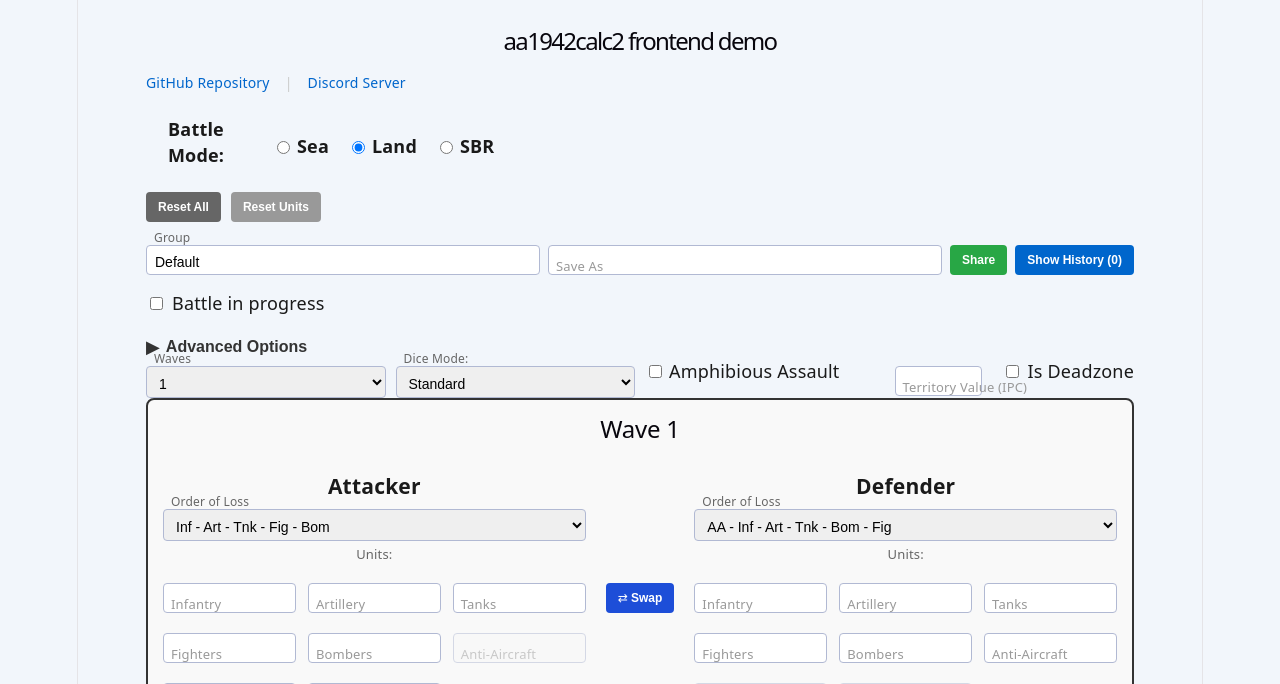
Test case: Input collapse on Evaluate Battle › collapses the input to a summary after Evaluate and expands again when clicked
The width and height of the screenshot is (1280, 684).
Click the radio button labelled "SBR" at x=446, y=148, box [440, 141, 453, 154]
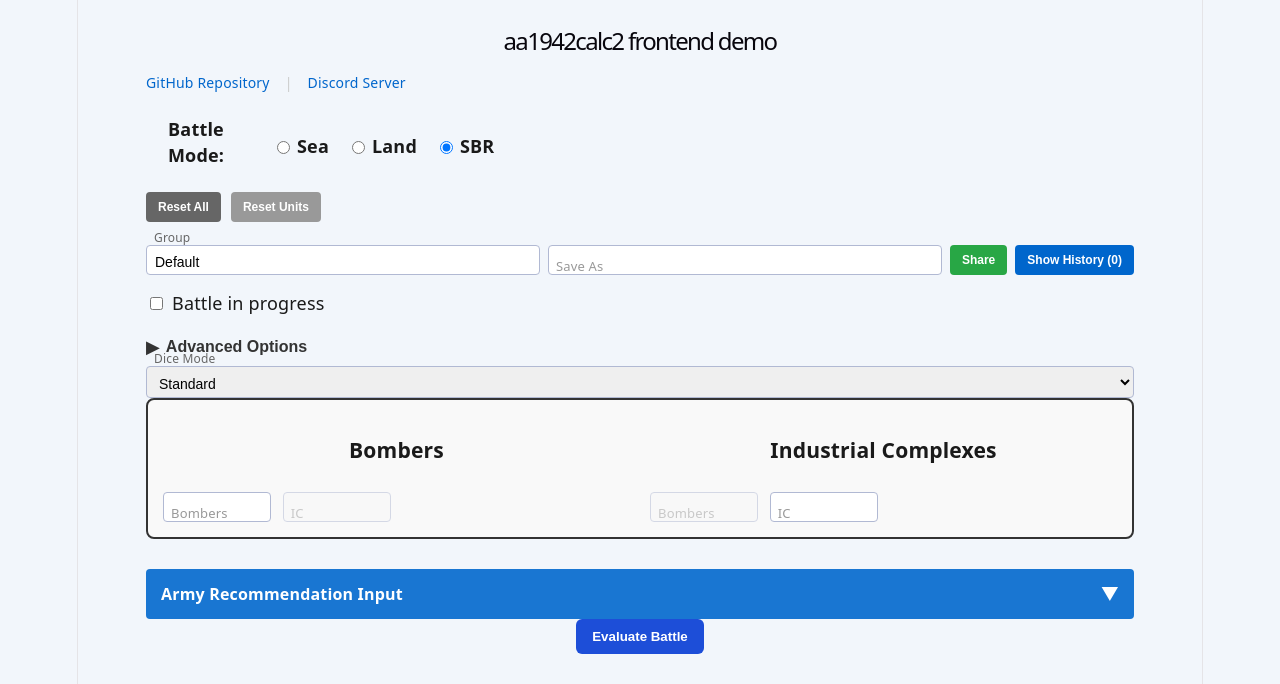
Now the element showing "Bombers Bombers IC Industrial Complexes Bombers IC" is shown, box [146, 398, 1134, 539]
Type "5" into the 1st number field at x=217, y=507, box [163, 492, 271, 522]
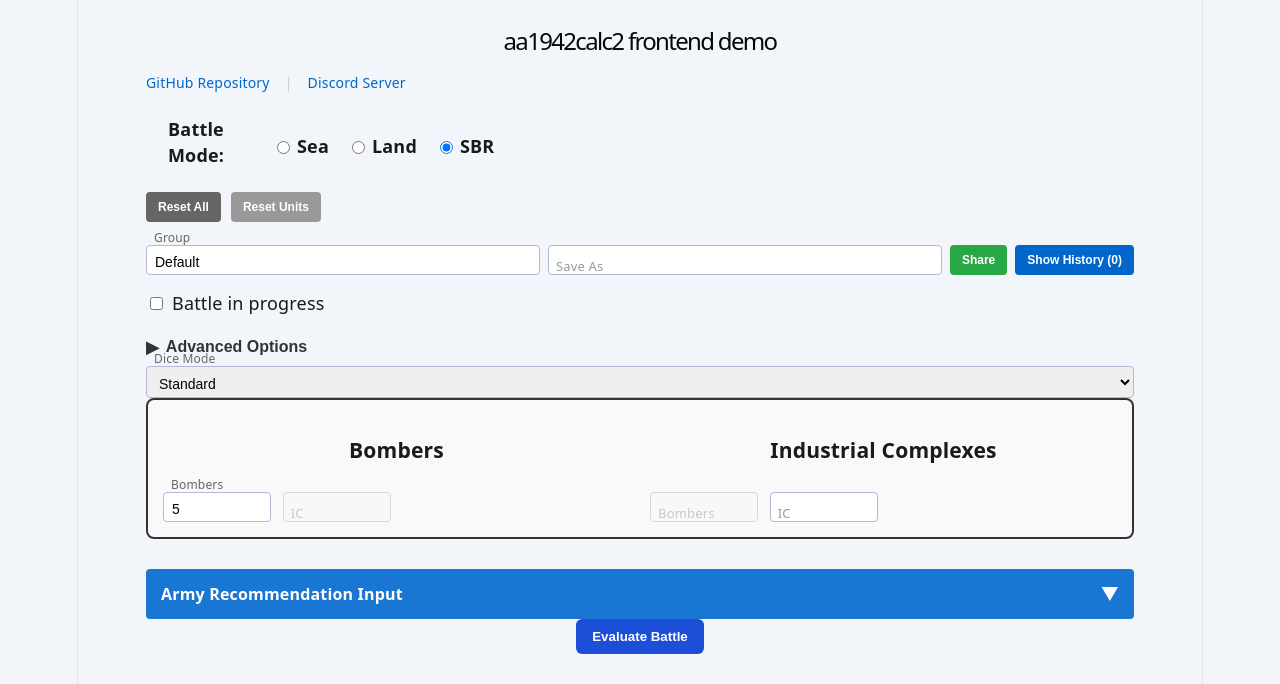
Type "1" into the 4th number field at x=824, y=507, box [770, 492, 878, 522]
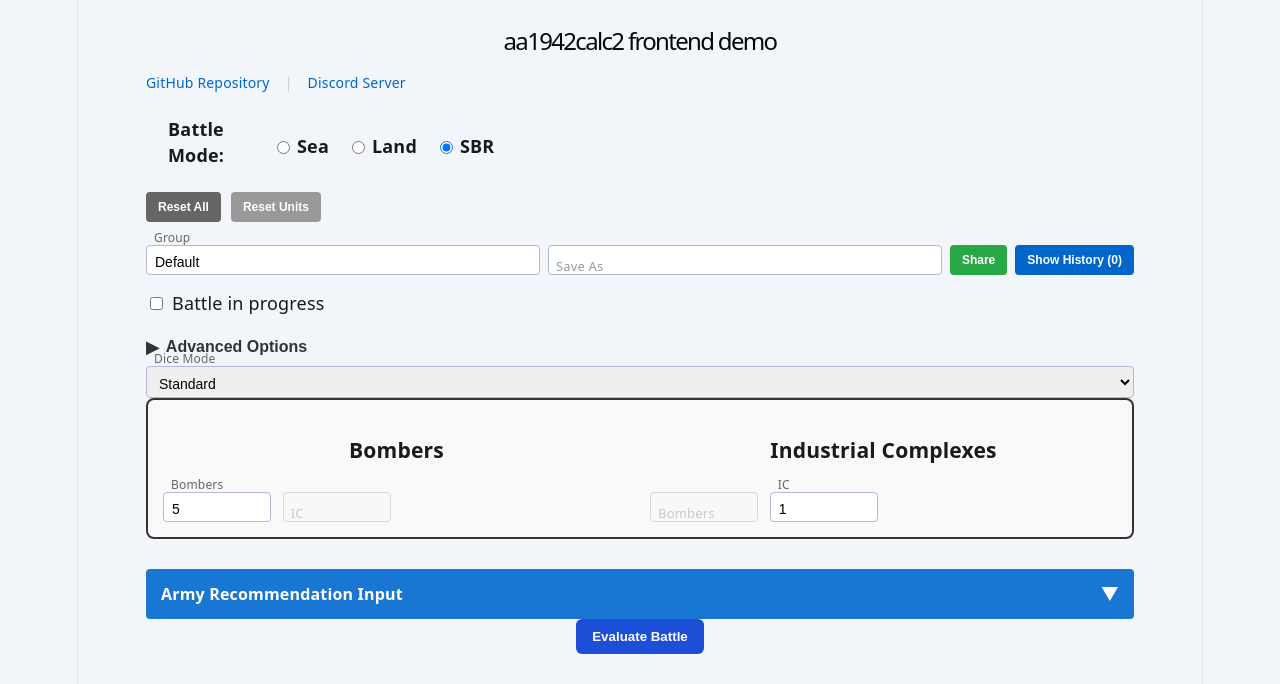
Expected: the text "Battle Input" is not shown
Now the heading "Bombers" is shown, box [349, 434, 444, 464]
Click the button "Evaluate Battle" at x=640, y=636, box [576, 619, 704, 654]
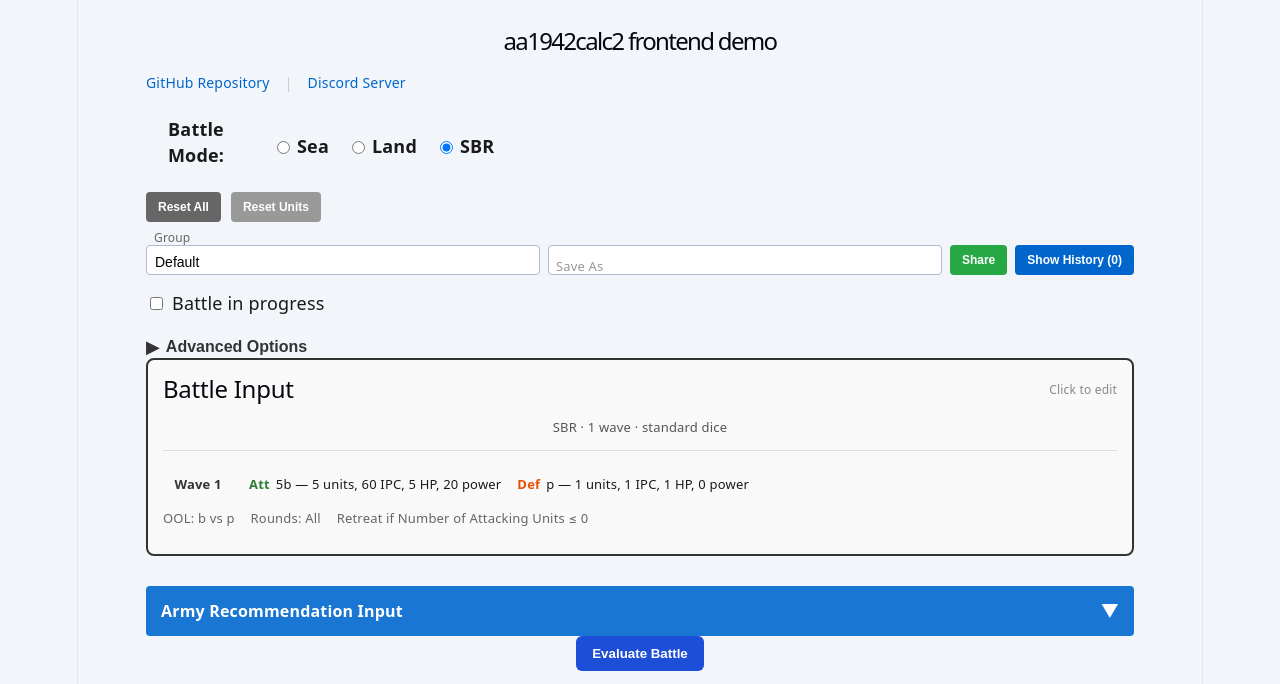
Now the heading "Battle Input" is shown
Now no headings "Bombers" are shown
Note: Re-expand by clicking the summary itself.
Click the heading "Battle Input" at x=228, y=390, box [163, 376, 294, 404]
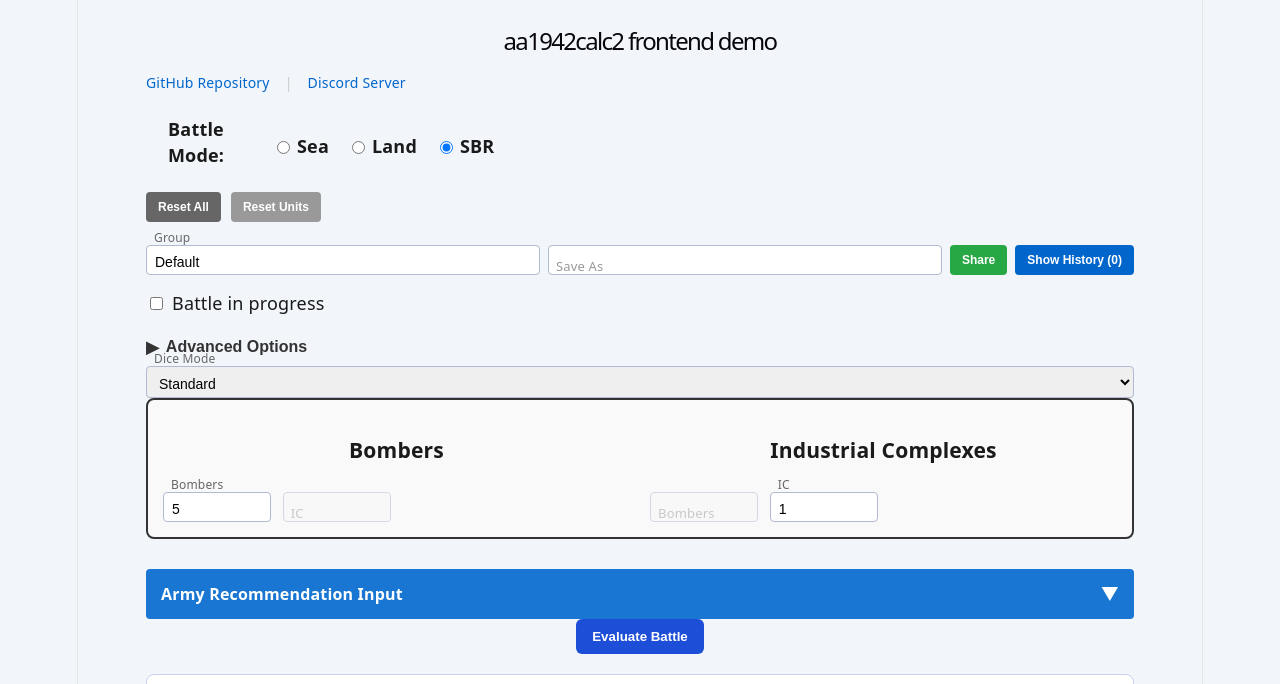
Now the heading "Bombers" is shown, box [349, 434, 444, 464]
Now the button "Battle Input" is gone
